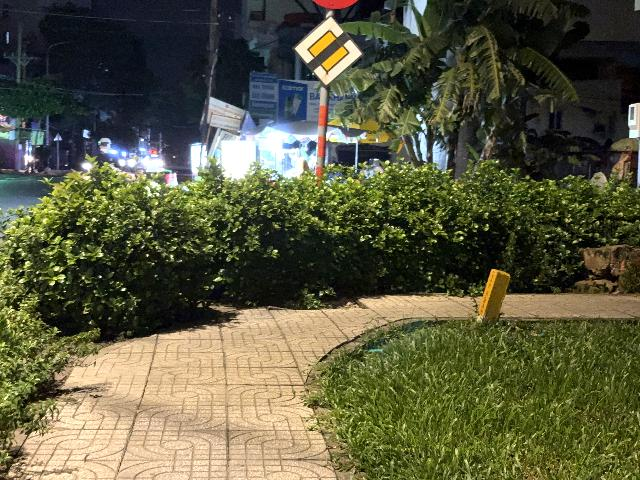het-duong-uu-tien: (292, 15, 363, 88)
